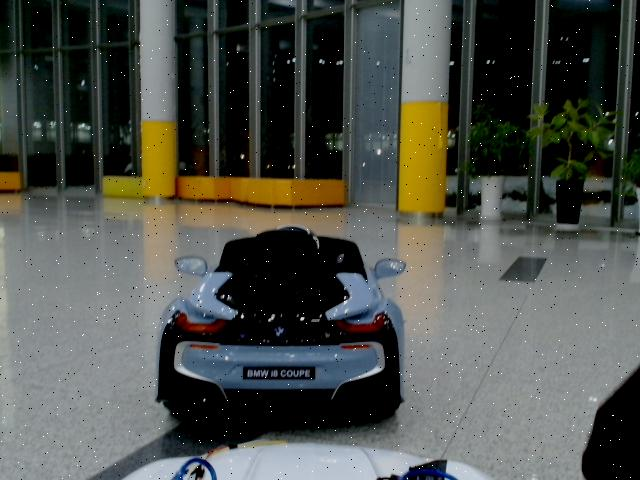car: (157, 224, 407, 422)
